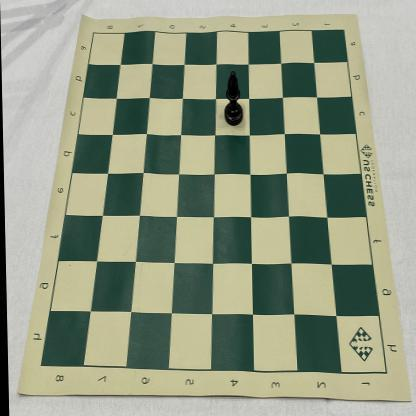black-bishop: (222, 70, 242, 126)
